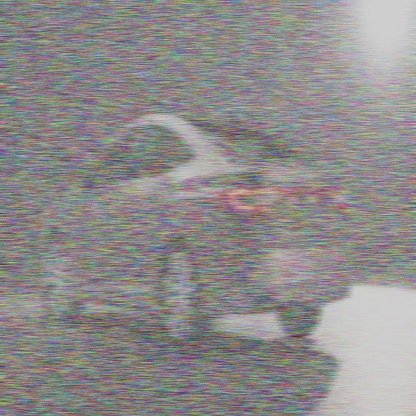Vehicle: (37, 108, 351, 346)
